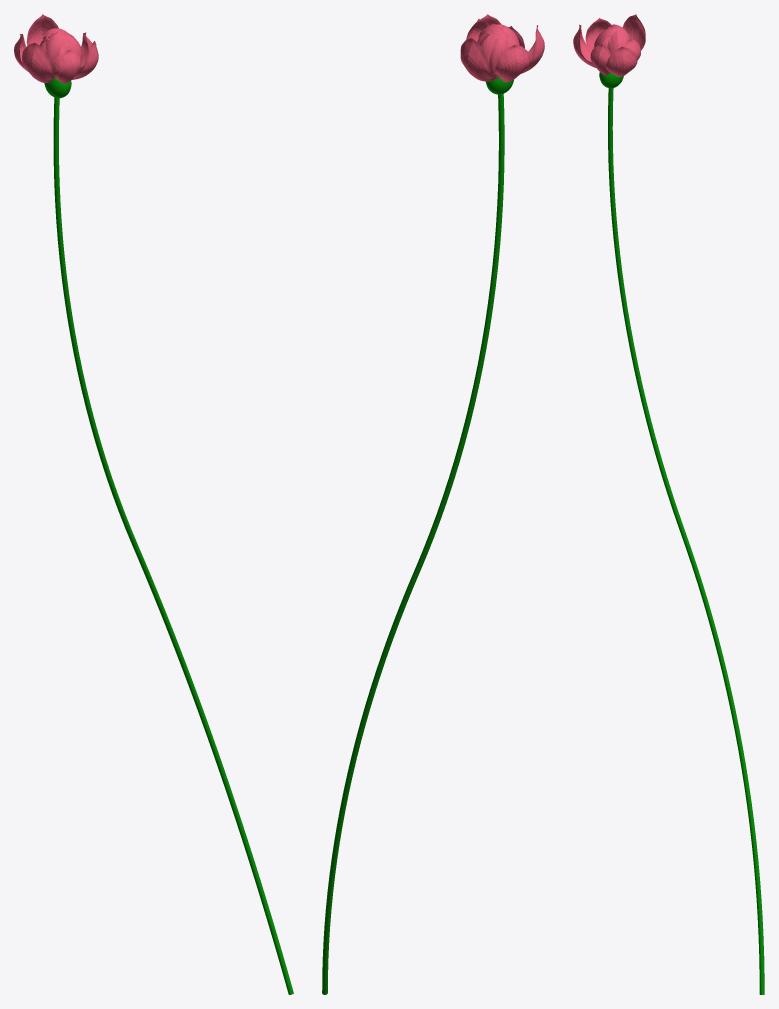
The model's file is Lotus032.fbx.
3 views of the same model, side by side, from view 1: azimuth 30°, elevation 25°; view 2: azimuth 150°, elevation 25°; view 3: azimuth 330°, elevation 25° (orthographic). The views are drawn at different scales.
Parts seen in each view (by area): view 1: pCylinder5, nurbsToPoly11, nurbsToPoly8; view 2: pCylinder5, nurbsToPoly10, nurbsToPoly12; view 3: pCylinder5, nurbsToPoly24, nurbsToPoly10.
Boxes of the visible parts, bbox=[...] form: pCylinder5: bbox=[53, 97, 293, 994]; nurbsToPoly11: bbox=[22, 43, 54, 82]; nurbsToPoly8: bbox=[55, 50, 81, 83]; pCylinder5: bbox=[322, 94, 504, 994]; nurbsToPoly10: bbox=[460, 38, 496, 81]; nurbsToPoly12: bbox=[495, 45, 530, 82]; pCylinder5: bbox=[608, 88, 764, 994]; nurbsToPoly24: bbox=[606, 47, 637, 76]; nurbsToPoly10: bbox=[622, 14, 645, 50].
Bounding box in the file's own units: 50.67 × 202 × 21.95.
